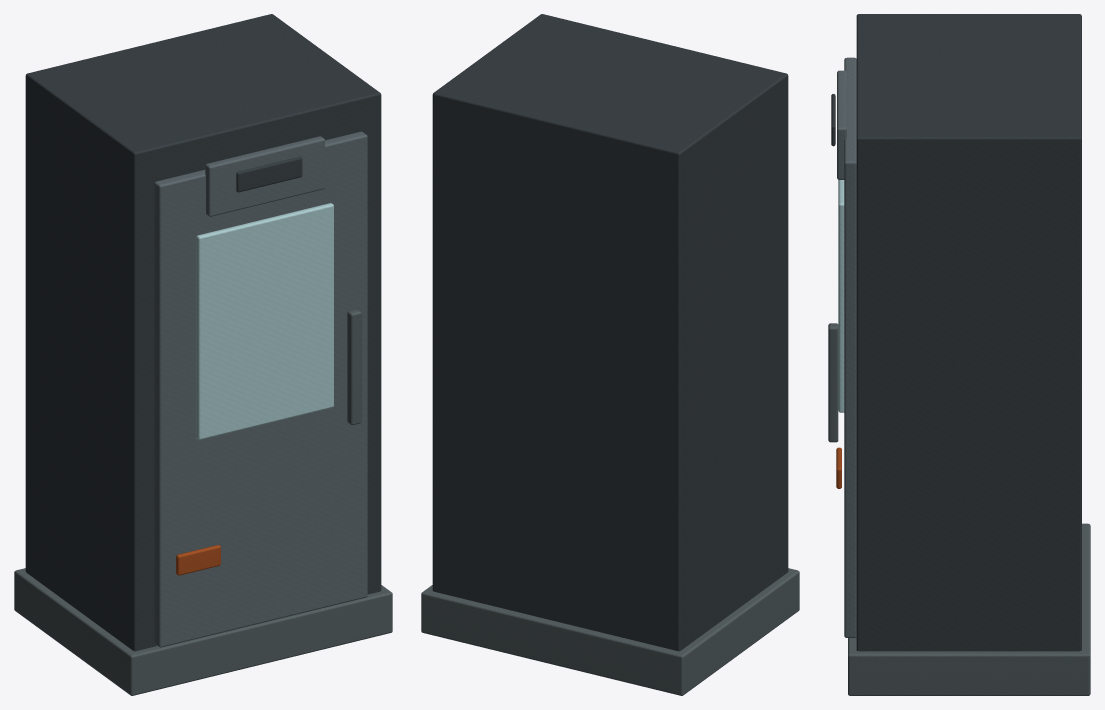
The model's file is SpecimenRefrigerator.fbx.
3 renders of one model, left to right at view 1: azimuth 30°, elevation 25°; view 2: azimuth 150°, elevation 25°; view 3: azimuth 270°, elevation 25°, orthographic. The views are drawn at different scales.
Parts seen in each view (by area): view 1: SpecimenRefrigerator_Mesh; view 2: SpecimenRefrigerator_Mesh; view 3: SpecimenRefrigerator_Mesh.
Part boxes in pixels (x1,y1,x2,y2): SpecimenRefrigerator_Mesh: [14, 14, 392, 695]; SpecimenRefrigerator_Mesh: [421, 14, 799, 695]; SpecimenRefrigerator_Mesh: [828, 14, 1090, 695].
Bounding box in the file's own units: 108 × 212 × 90.75.
